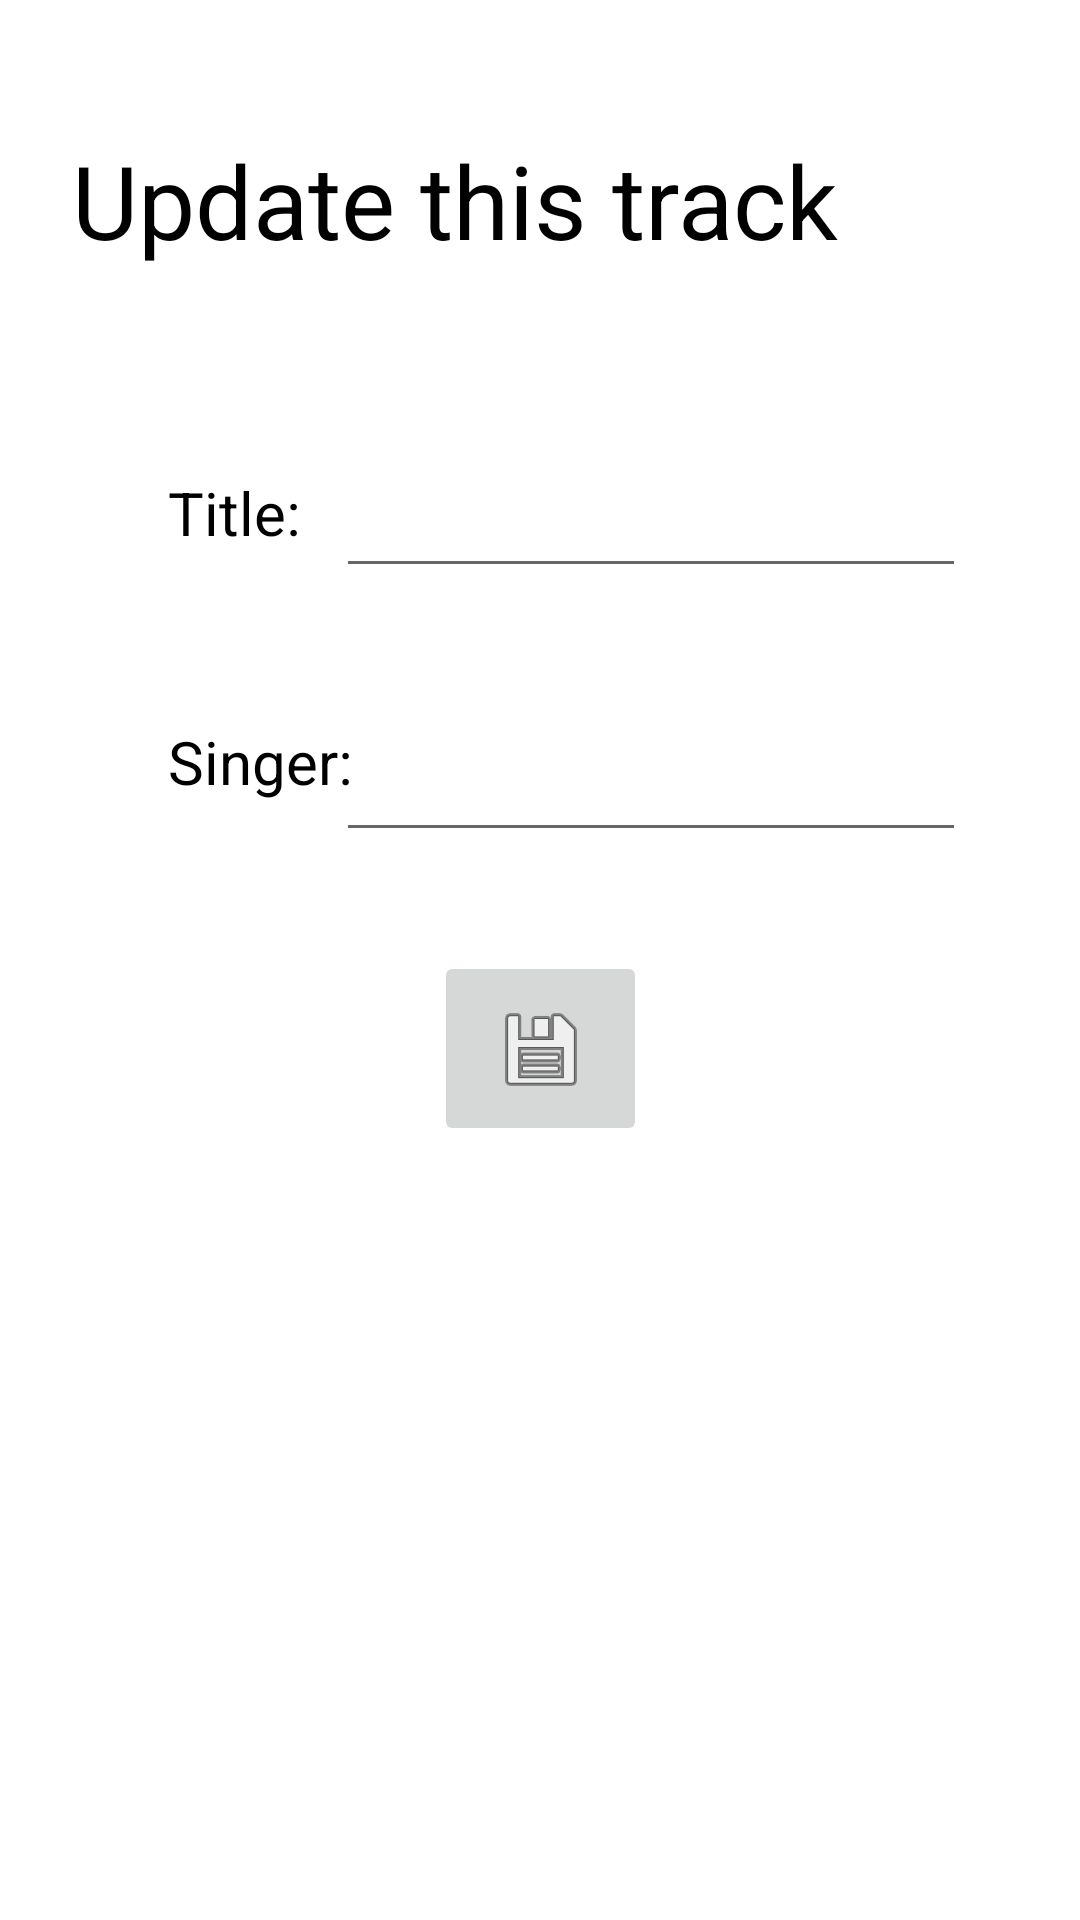

Where to tap for icons on this 1080*1920 app screen, as point (x, y):
save: point (540, 1048)
